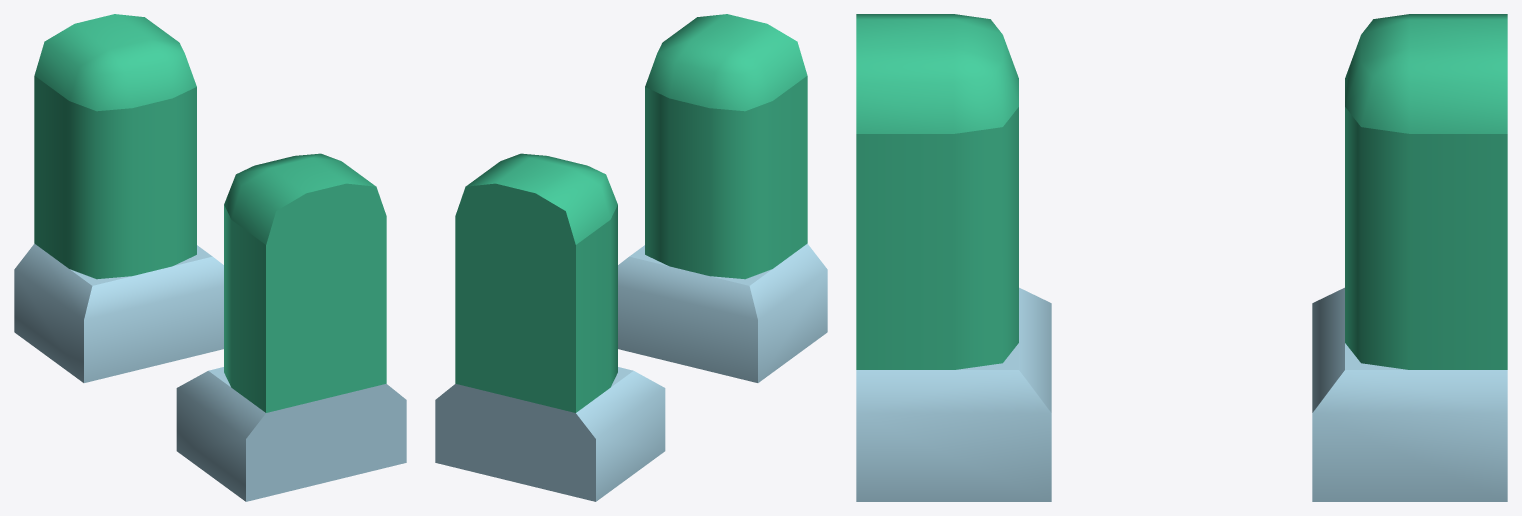
File: hedgeLargeGate.glb
3 views of the same model, side by side, from view 1: azimuth 30°, elevation 25°; view 2: azimuth 150°, elevation 25°; view 3: azimuth 270°, elevation 25° (orthographic). The views are drawn at different scales.
Parts seen in each view (by area): view 1: hedgeLargeGate; view 2: hedgeLargeGate; view 3: hedgeLargeGate.
Boxes of the visible parts, x1=… form: hedgeLargeGate: x1=14, y1=14, x2=406, y2=501; hedgeLargeGate: x1=435, y1=14, x2=827, y2=501; hedgeLargeGate: x1=856, y1=14, x2=1507, y2=501.
Size of the model in its own units: 1.2 by 2.1 by 3.
